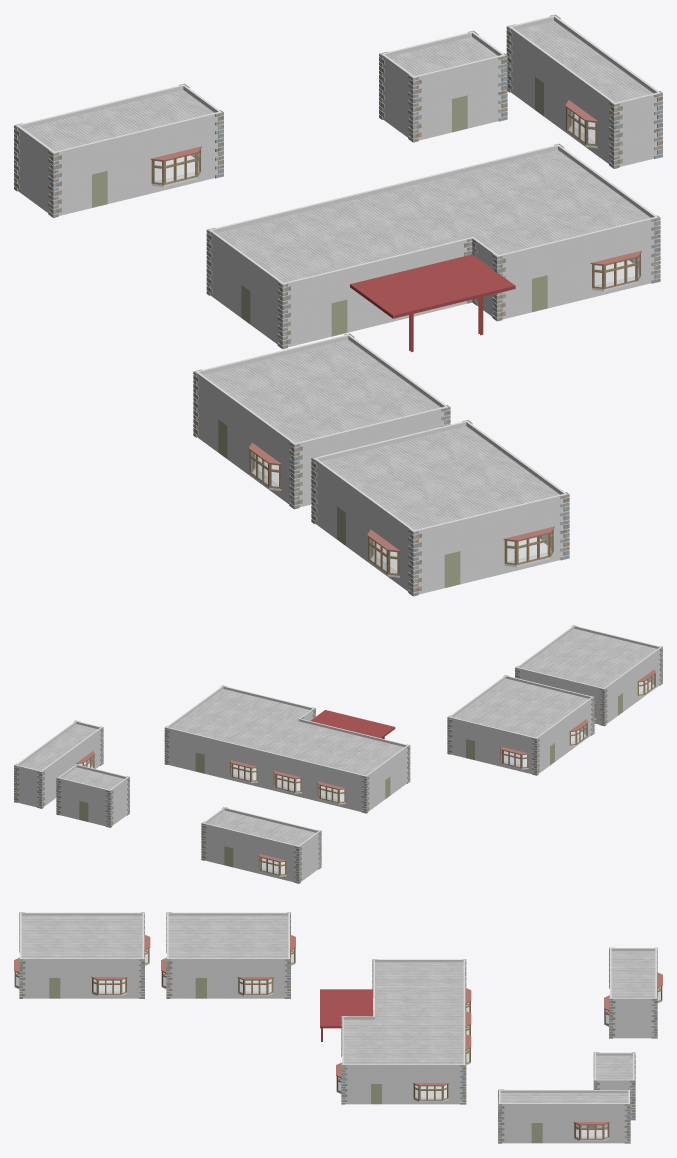
File: Plan(REF)_levels(1)_window(W Splay Bay 23_5)_wall(WAFRA WALL)_quoin(Y)_cornice(N).fbx
3 views of the same model, one above another, from view 1: azimuth 30°, elevation 25°; view 2: azimuth 150°, elevation 25°; view 3: azimuth 270°, elevation 25° (orthographic). The views are drawn at different scales.
Visible parts, largest first — view 1: WAFRA Stucco - White Rough 23, WAFRA Roof - Corrugated Sheet Matte 23, WAFRA Stone - Slate Natural 23, WAFRA Roof - Standing Seam Red Coat 23, Color - Beige, Wood - Millwork - Pine - Horizontal, Glass - Clear, Color - White, Metal - Finish - Copper; view 2: WAFRA Stucco - White Rough 23, WAFRA Roof - Corrugated Sheet Matte 23, WAFRA Stone - Slate Natural 23, Wood - Millwork - Pine - Horizontal, Glass - Clear, Color - White, WAFRA Roof - Standing Seam Red Coat 23, Color - Beige, Metal - Finish - Copper; view 3: WAFRA Roof - Corrugated Sheet Matte 23, WAFRA Stucco - White Rough 23, WAFRA Stone - Slate Natural 23, Wood - Millwork - Pine - Horizontal, WAFRA Roof - Standing Seam Red Coat 23, Glass - Clear, Color - White, Metal - Finish - Copper, Color - Beige.
Boxes of the visible parts, x1,y1,x2,y2 form: WAFRA Stucco - White Rough 23: (16, 15, 660, 594); WAFRA Roof - Corrugated Sheet Matte 23: (24, 20, 652, 529); WAFRA Stone - Slate Natural 23: (14, 14, 662, 596); WAFRA Roof - Standing Seam Red Coat 23: (350, 254, 515, 351); Color - Beige: (92, 77, 547, 587); Wood - Millwork - Pine - Horizontal: (151, 107, 640, 575); Glass - Clear: (154, 109, 639, 573); Color - White: (14, 29, 662, 592); Metal - Finish - Copper: (150, 100, 641, 551); WAFRA Stucco - White Rough 23: (15, 625, 661, 882); WAFRA Roof - Corrugated Sheet Matte 23: (20, 628, 656, 845); WAFRA Stone - Slate Natural 23: (14, 625, 662, 883); Wood - Millwork - Pine - Horizontal: (77, 673, 655, 875); Glass - Clear: (79, 675, 654, 874); Color - White: (14, 649, 662, 881); WAFRA Roof - Standing Seam Red Coat 23: (310, 710, 395, 738); Color - Beige: (79, 693, 622, 867); Metal - Finish - Copper: (76, 669, 656, 861); WAFRA Roof - Corrugated Sheet Matte 23: (21, 915, 655, 1103); WAFRA Stucco - White Rough 23: (20, 912, 656, 1143); WAFRA Stone - Slate Natural 23: (19, 912, 657, 1143); Wood - Millwork - Pine - Horizontal: (14, 948, 662, 1139); WAFRA Roof - Standing Seam Red Coat 23: (320, 989, 372, 1041); Glass - Clear: (16, 949, 660, 1138); Color - White: (14, 919, 662, 1141); Metal - Finish - Copper: (14, 934, 662, 1124); Color - Beige: (49, 978, 597, 1143).
Size of the model in its own units: 4259 by 5945 by 400.
13 materials, 6 textured.
